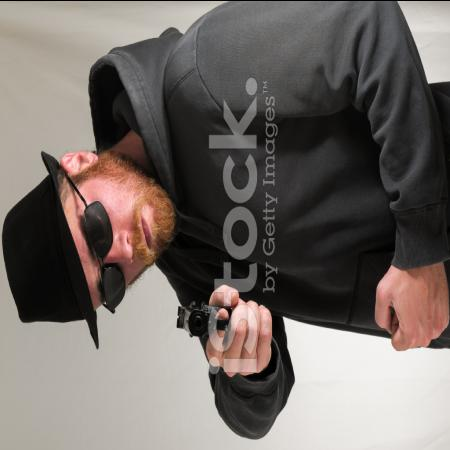Pistol: (172, 302, 232, 338)
